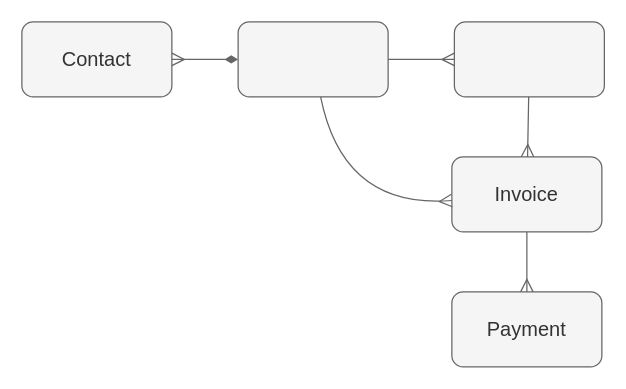
Some shapes in this 626 by 389 pixel diagram are drawn without their labels. The shapes that lost their labels are listed below. From the top down, each one's centre as x and y in pixels, then its label:
At point (312, 59): "Client".
At point (528, 59): "Order".
